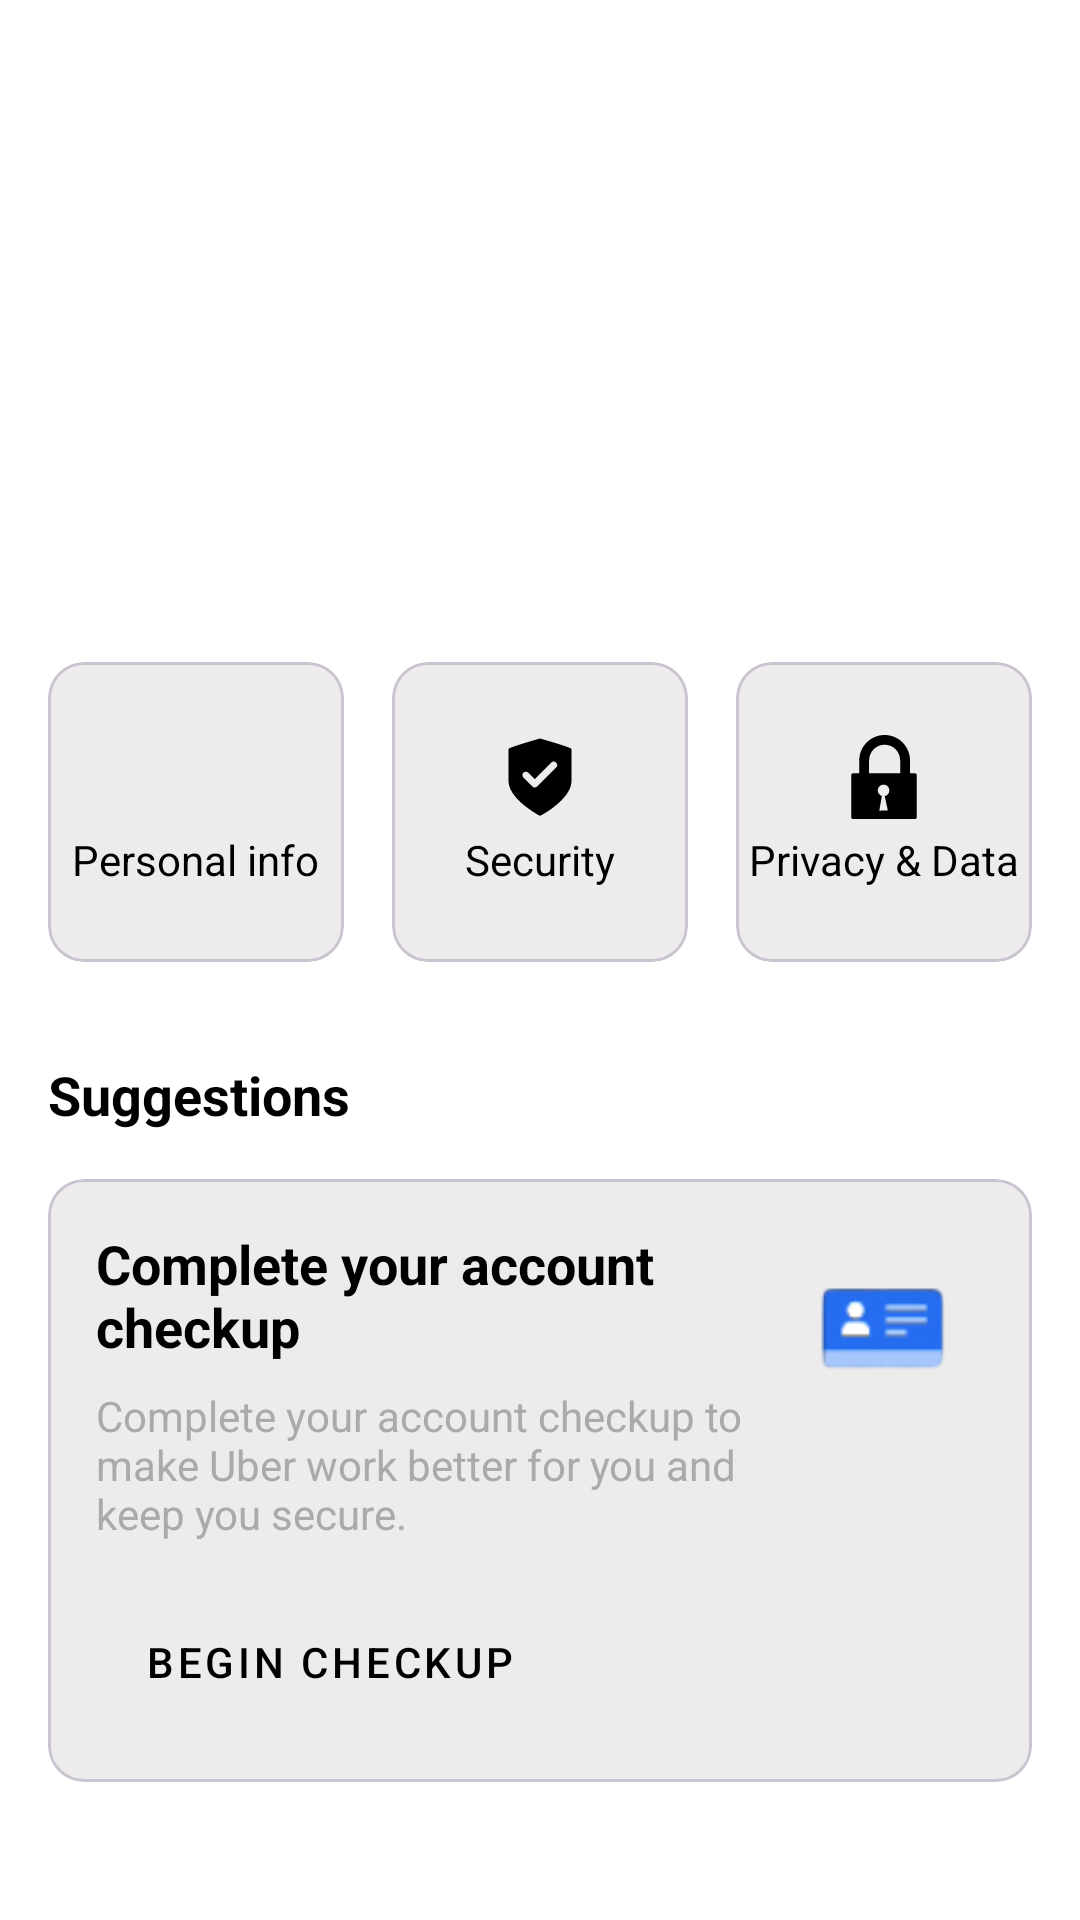

Named icons in this screenshot (1080*1920) and their centers, (x=x, y=y):
lock: (x=884, y=777)
